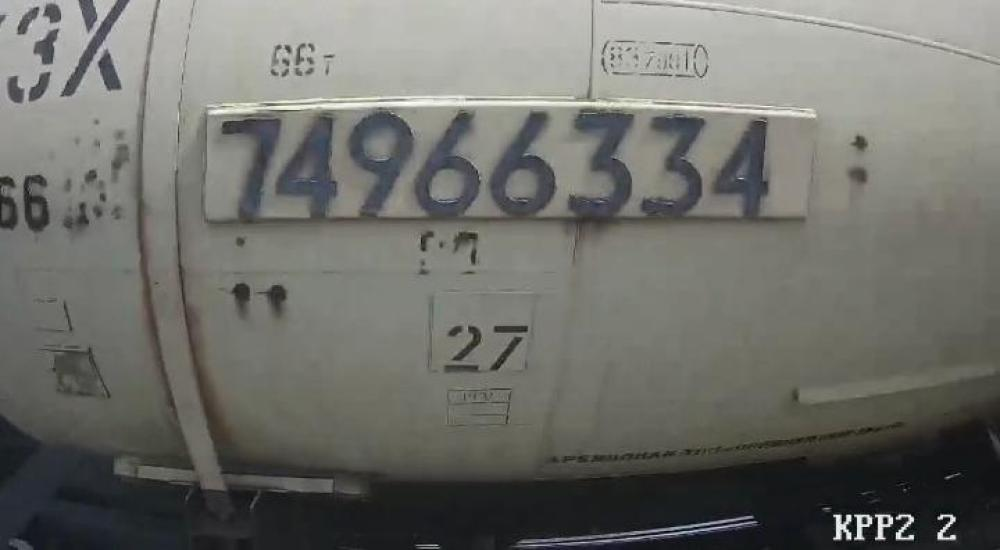Wagon-number: (215, 104, 773, 221)
